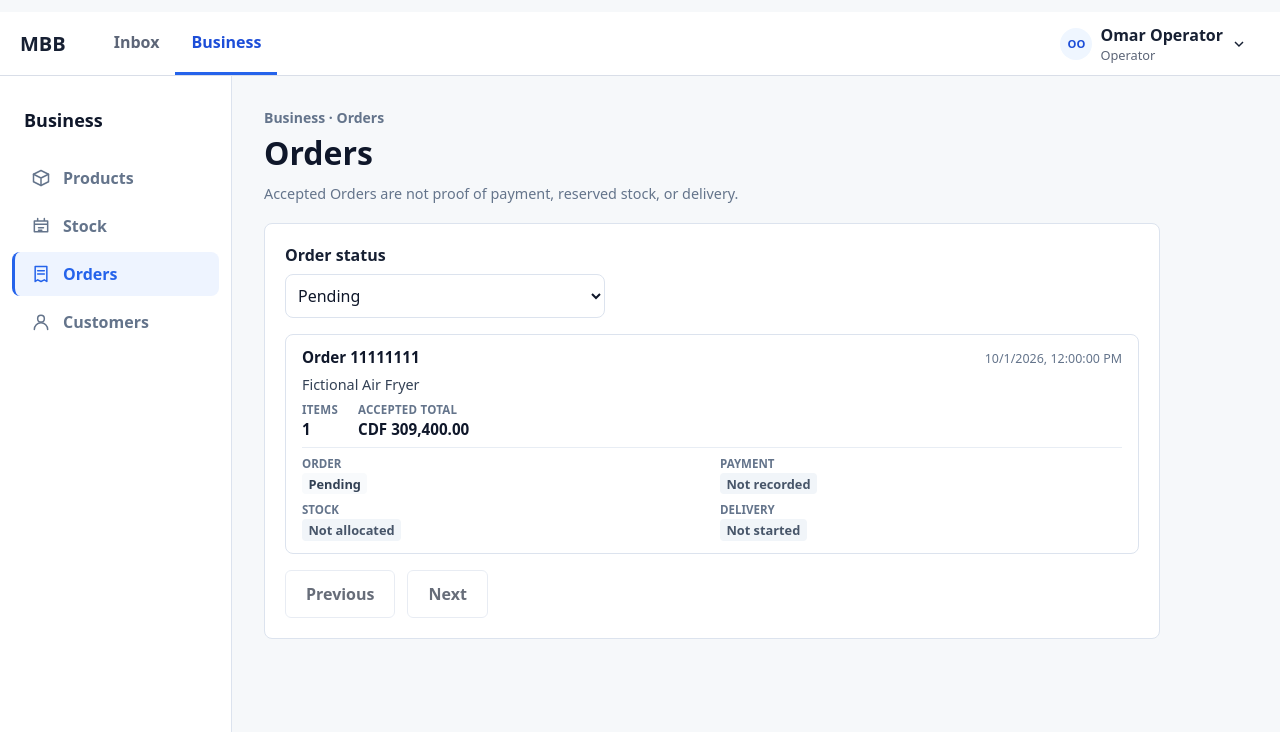
read-only Business Orders › shows the accepted snapshot and associated Inbox link without actions
Expected: the button "Previous" is disabled, [285,570,396,618]
Expected: the button "Next" is disabled, [408,570,488,618]
Step 1. Click the 8th link → coordinates (712, 444), box [286,335,1138,553]
(page scrolled)
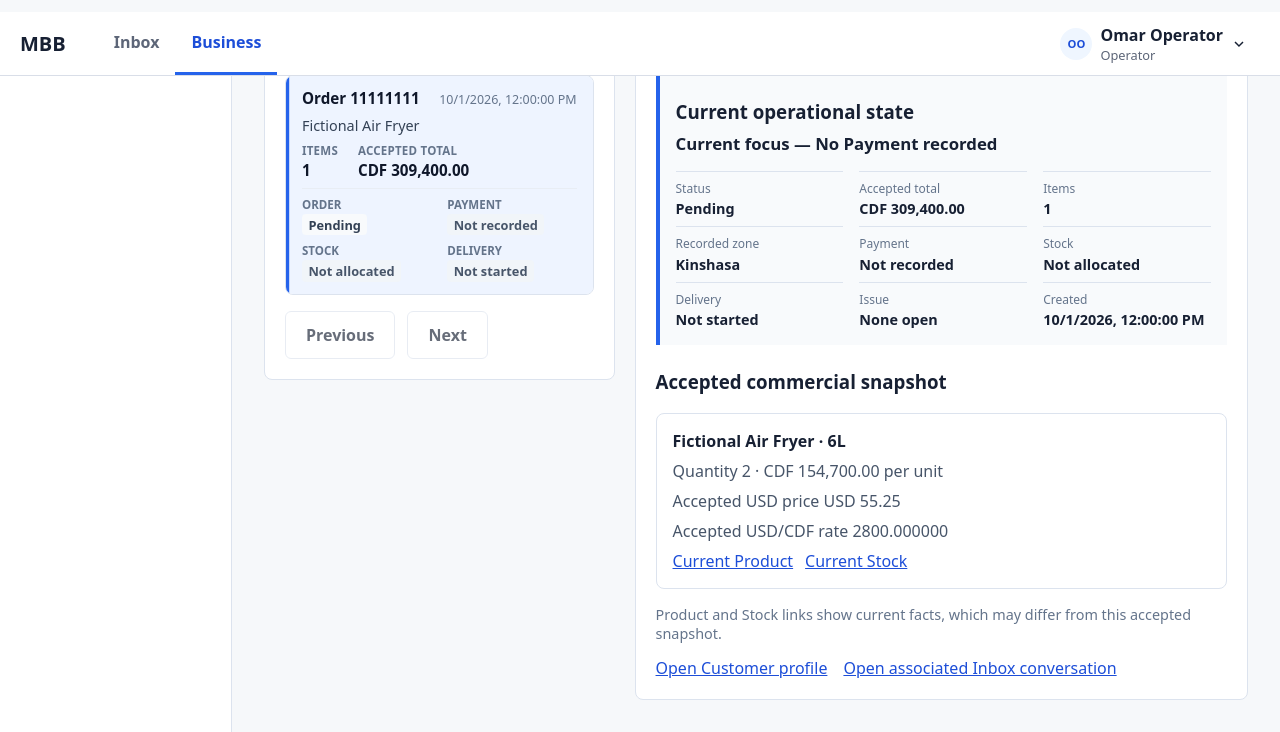
Result: the text "CDF 309,400.00" below "Status" is shown at [859,199,965,218]
Result: the text "Accepted USD price USD 55.25" is shown at [672,490,901,512]
Result: the text "Accepted USD/CDF rate 2800.000000" is shown at [672,520,948,542]
